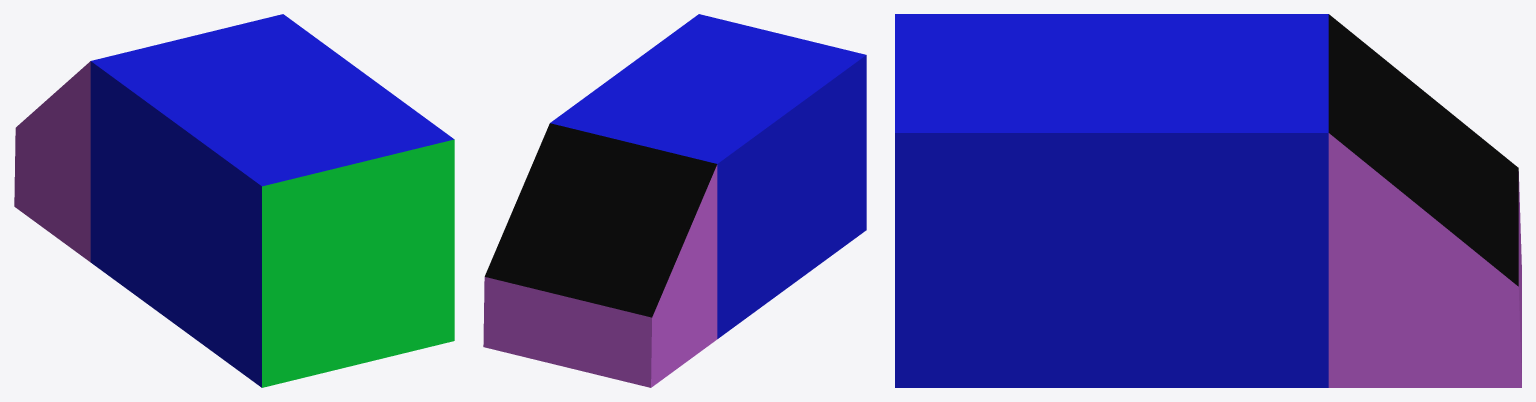
The model's file is player.glb.
3 renders of one model, left to right at view 1: azimuth 30°, elevation 25°; view 2: azimuth 150°, elevation 25°; view 3: azimuth 270°, elevation 25°, orthographic. The views are drawn at different scales.
Parts seen in each view (by area): view 1: Cube; view 2: Cube; view 3: Cube.
Boxes of the visible parts, left/top/right/bottom form: Cube: left=14, top=14, right=454, bottom=387; Cube: left=483, top=14, right=866, bottom=387; Cube: left=895, top=14, right=1521, bottom=387.
Bounding box in the file's own units: 2 × 2 × 4.46.
